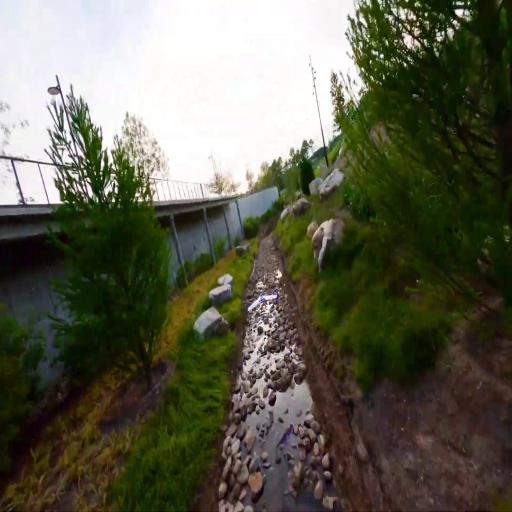uav: (243, 288, 282, 316)
